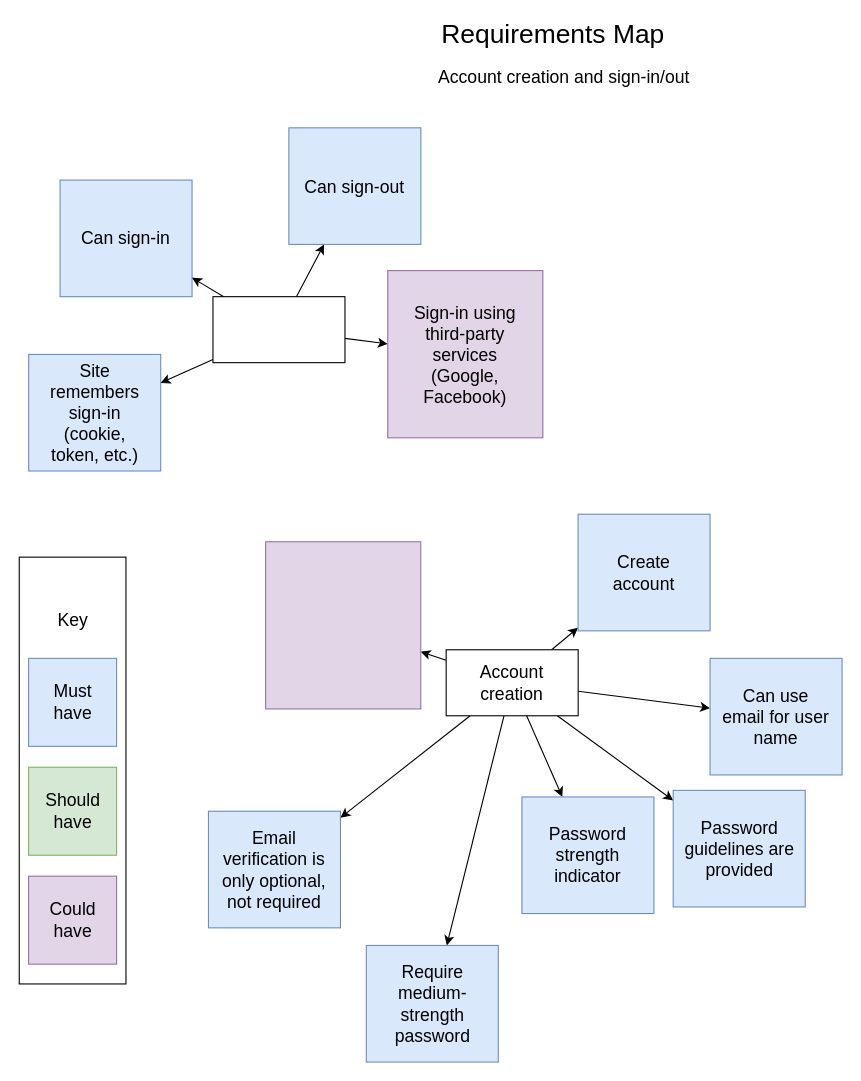
This 861x1081 diagram has some shape labels left out. Here are the shapes that lost their labels. From the top down, the centre of each, then its label:
point 278,329: Sign-in/Sign-out
point 343,625: Create account using third-party services (Google, Facebook)
